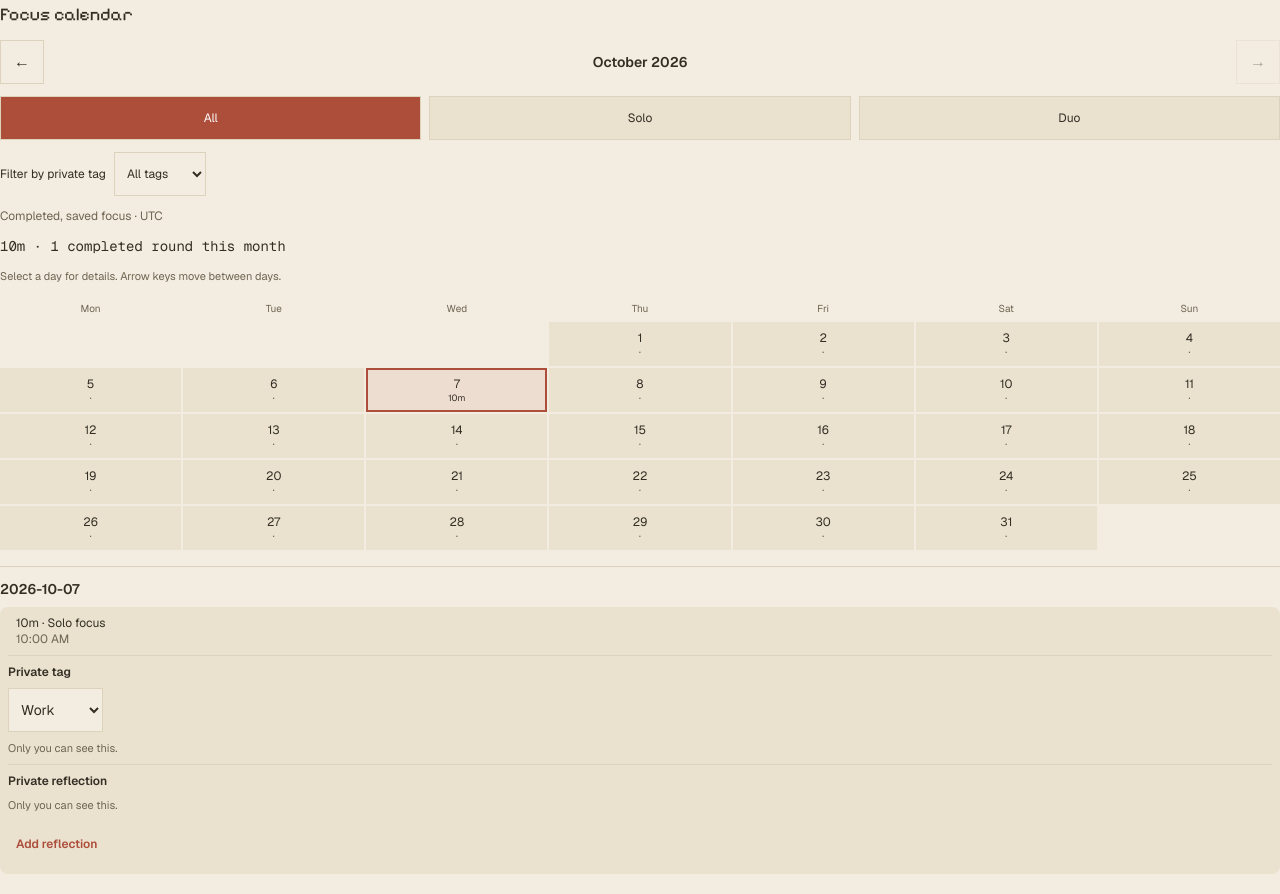
Test: shows a conflict for a stale revision and keeps the user's selection
Select "Other" in the dropdown labelled "Private tag" at [56, 710], box [8, 688, 103, 732]
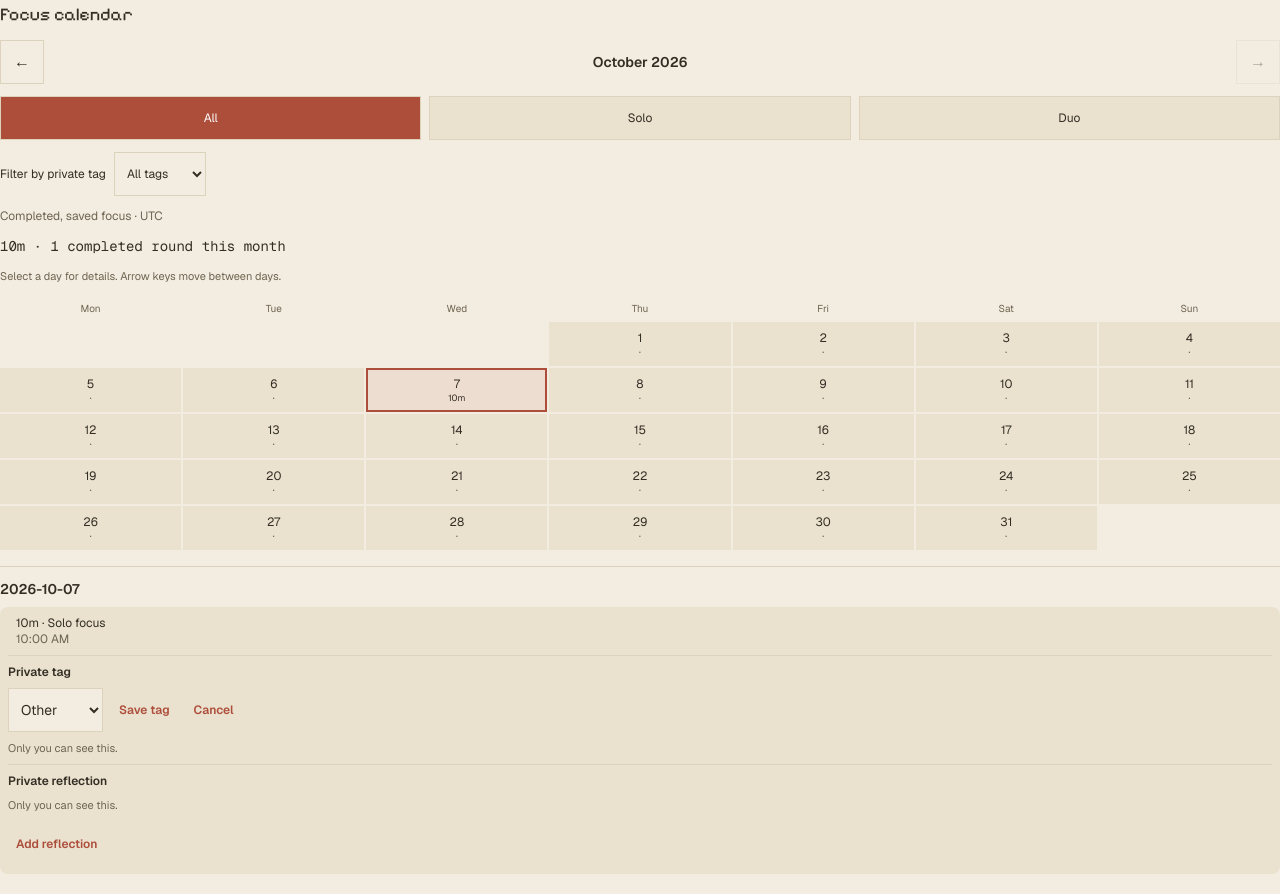
Click the button "Save tag" at [144, 710], box [111, 688, 178, 732]
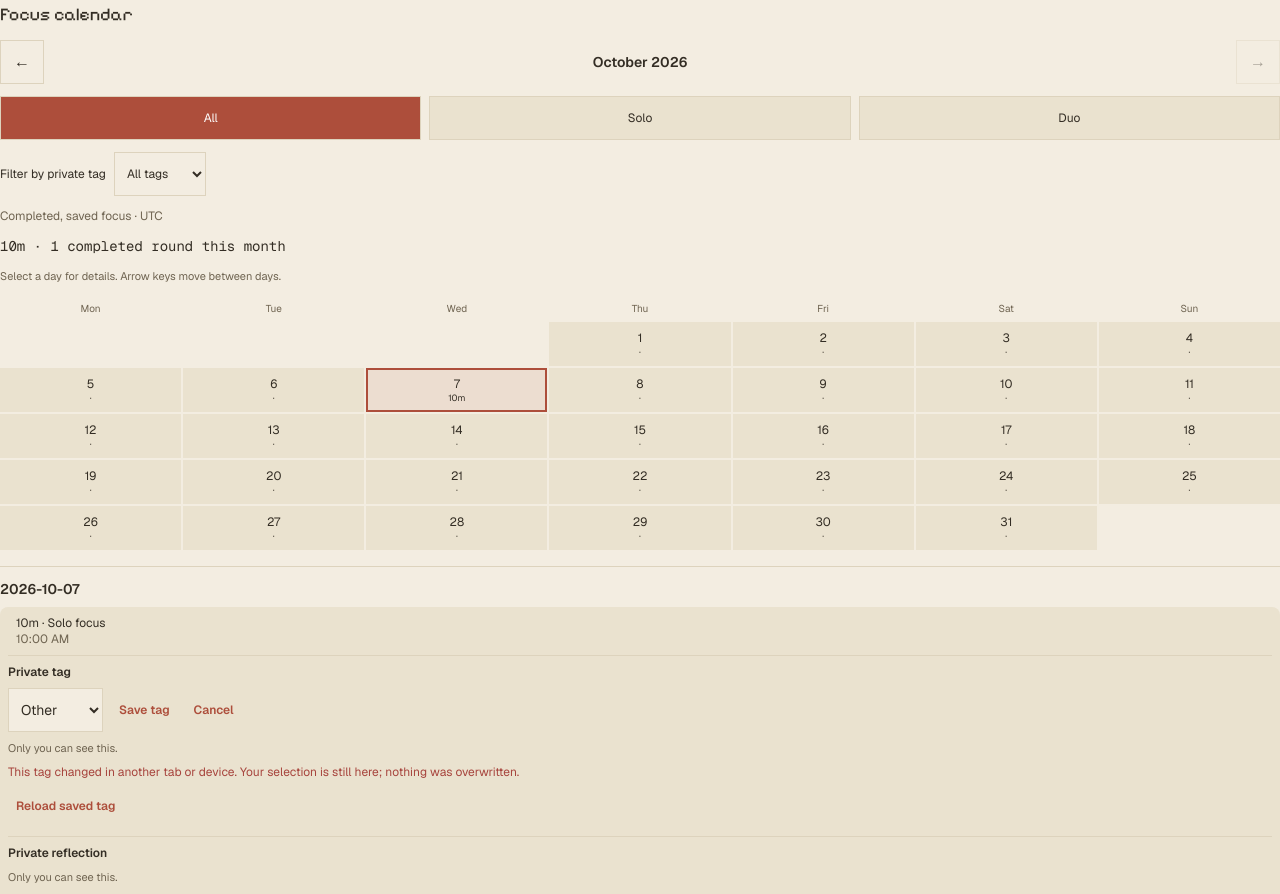
expect the text "nothing was overwritten" is shown: met, box [8, 764, 519, 780]
